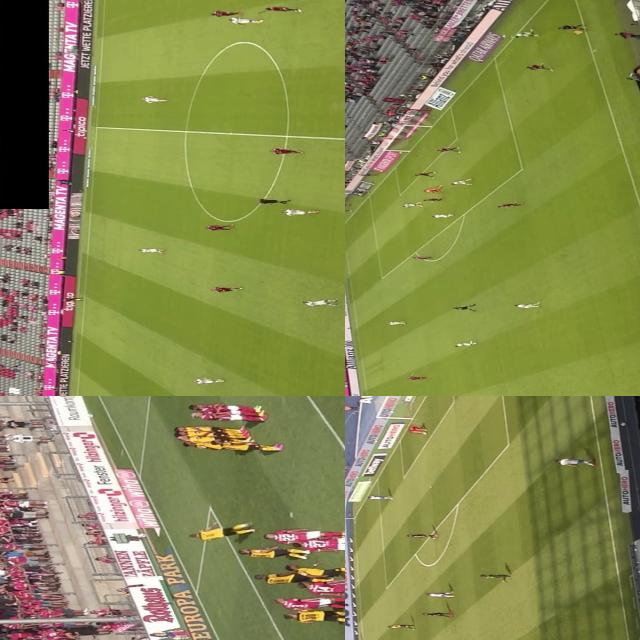ball: (421, 430, 428, 434), (428, 191, 434, 193)
player: (266, 528, 334, 546), (246, 572, 328, 585), (270, 593, 345, 607), (277, 607, 345, 622), (188, 522, 248, 538), (281, 560, 345, 573), (233, 546, 310, 556), (289, 537, 345, 550), (300, 579, 345, 595), (170, 430, 238, 440), (171, 435, 241, 443), (188, 411, 256, 419), (214, 441, 280, 449), (133, 242, 173, 255), (184, 406, 258, 412), (184, 442, 238, 450), (298, 298, 340, 308), (268, 144, 306, 155), (554, 456, 594, 466), (176, 423, 233, 429), (212, 283, 246, 293), (140, 92, 168, 104), (264, 4, 302, 12), (192, 375, 222, 385), (208, 7, 238, 17), (201, 222, 238, 230), (281, 207, 321, 214), (511, 29, 539, 38), (230, 16, 260, 24), (527, 63, 557, 71), (425, 590, 453, 598), (422, 610, 452, 617), (398, 200, 424, 208), (385, 320, 411, 328), (512, 301, 546, 307), (497, 202, 523, 209), (405, 423, 425, 432), (406, 533, 440, 538), (452, 180, 478, 186), (436, 145, 462, 151), (365, 494, 391, 500), (430, 211, 454, 217), (424, 196, 444, 203), (456, 341, 476, 348), (478, 574, 511, 578), (424, 185, 442, 192), (414, 170, 434, 176), (412, 255, 432, 259), (407, 374, 423, 379)
